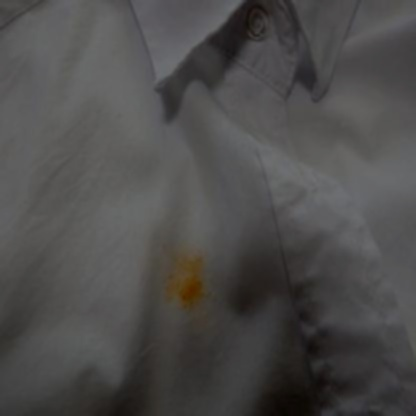kimchi: (155, 254, 215, 308)
